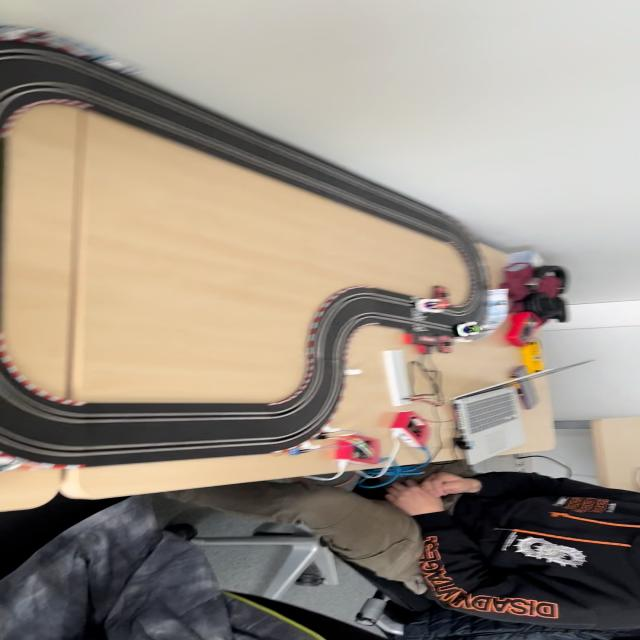mario: (414, 298, 454, 314)
yoshi: (455, 320, 487, 339)
